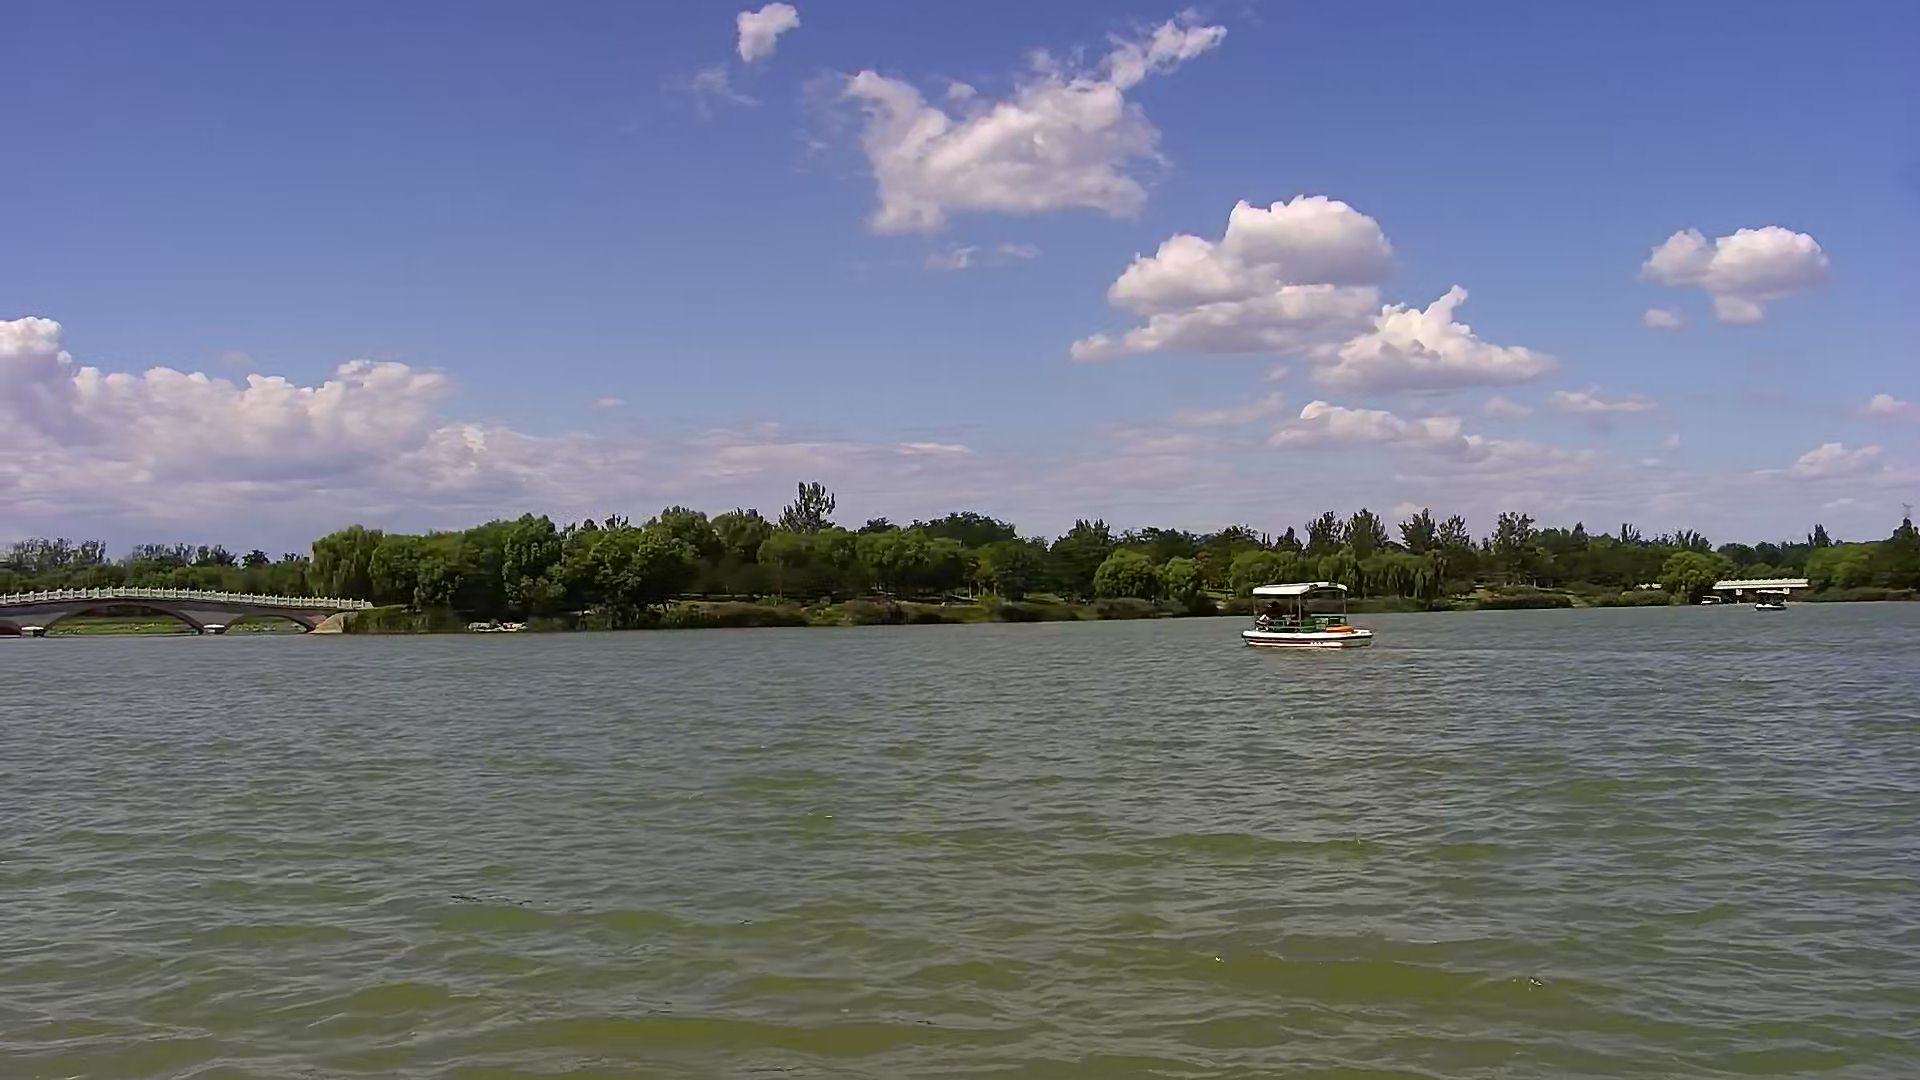boat: (1244, 576, 1374, 651)
bridge: (3, 587, 349, 644), (1716, 574, 1811, 597)
